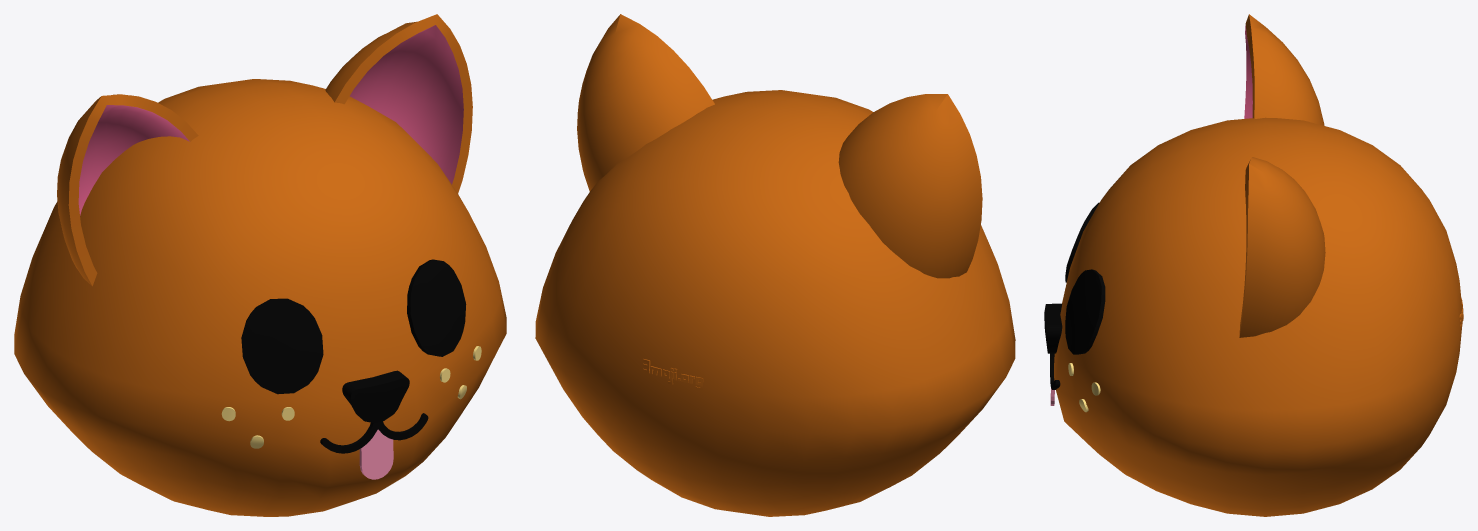
The model's file is cat_face.gltf.
The picture shows the model from 3 angles, left to right: view 1: azimuth 30°, elevation 25°; view 2: azimuth 150°, elevation 25°; view 3: azimuth 270°, elevation 25°; orthographic projection. The views are drawn at different scales.
Parts seen in each view (by area): view 1: Cube.6191, Cube.6190, Circle.1848, Circle.1849, Cube.6192, Circle.1850, Circle.1851; view 2: Cube.6191, Cube.6190; view 3: Cube.6191, Cube.6190, Circle.1848, Circle.1849.
Part boxes in pixels (x1,y1,x2,y2): Cube.6191: [14, 79, 506, 516]; Cube.6190: [57, 14, 472, 286]; Circle.1848: [241, 259, 466, 394]; Circle.1849: [342, 370, 409, 423]; Cube.6192: [359, 429, 393, 479]; Circle.1850: [320, 413, 428, 453]; Circle.1851: [221, 346, 481, 448]; Cube.6191: [535, 90, 1015, 516]; Cube.6190: [577, 14, 982, 278]; Cube.6191: [1054, 117, 1463, 516]; Cube.6190: [1239, 14, 1325, 337]; Circle.1848: [1065, 202, 1105, 354]; Circle.1849: [1044, 303, 1062, 353].
Size of the model in its own units: 1.96 by 1.91 by 1.78.
Materials: 1 (1 with a texture image).
